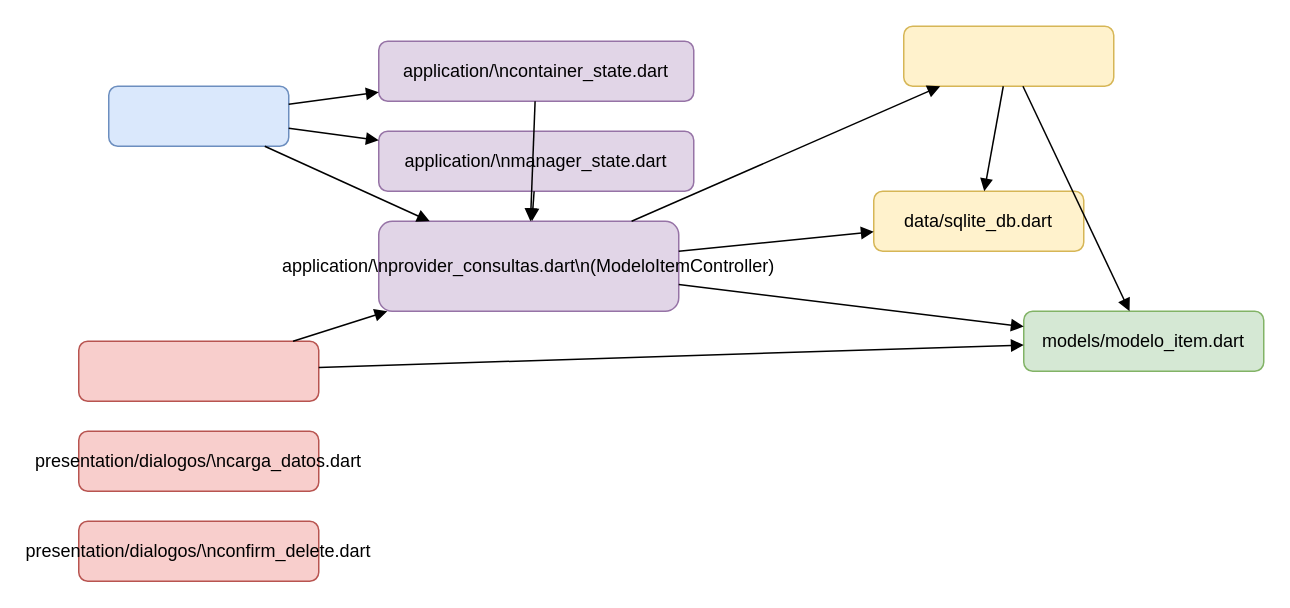
Image size: 1290x608. Some labels were removed from this diagram. Here are the shapes that lost their labels. From the top down, the box of each, then its label:
(902, 25, 1114, 86): data/consultas.dart
(107, 85, 289, 146): main.dart
(77, 340, 319, 401): presentation/pages/\nhome_page.dart
